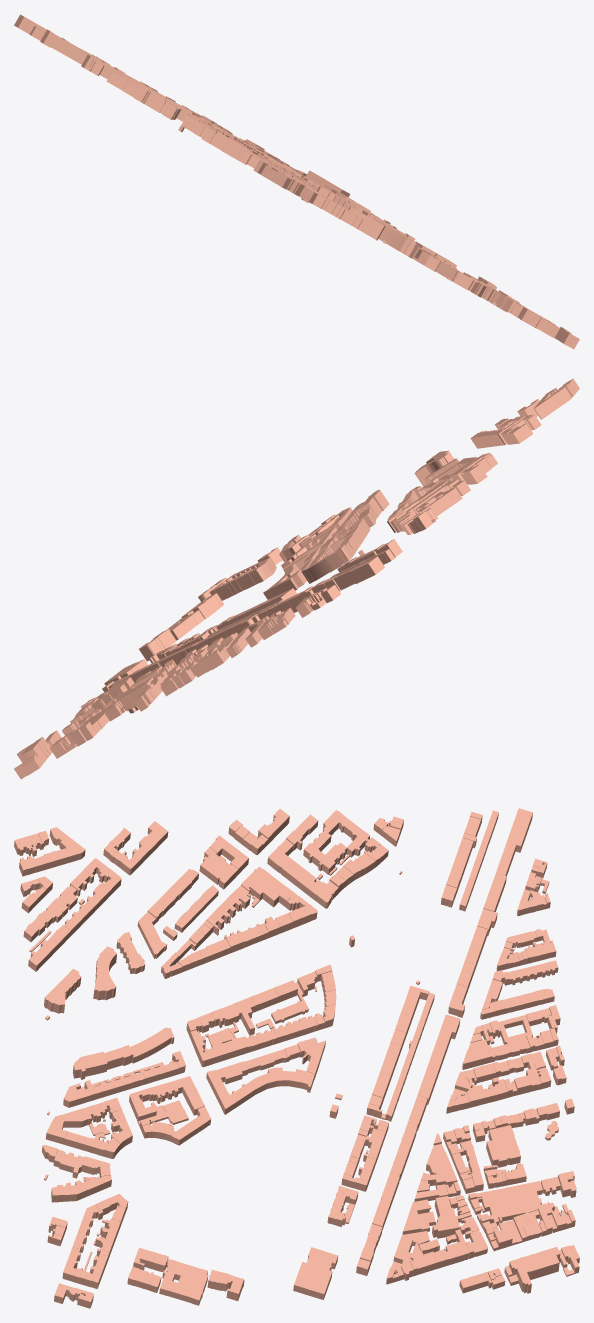
3 views of the same model, one above another, from view 1: azimuth 30°, elevation 25°; view 2: azimuth 150°, elevation 25°; view 3: azimuth 270°, elevation 25° (orthographic). The views are drawn at different scales.
Bounding box in the file's own units: 539 × 395 × 645.
